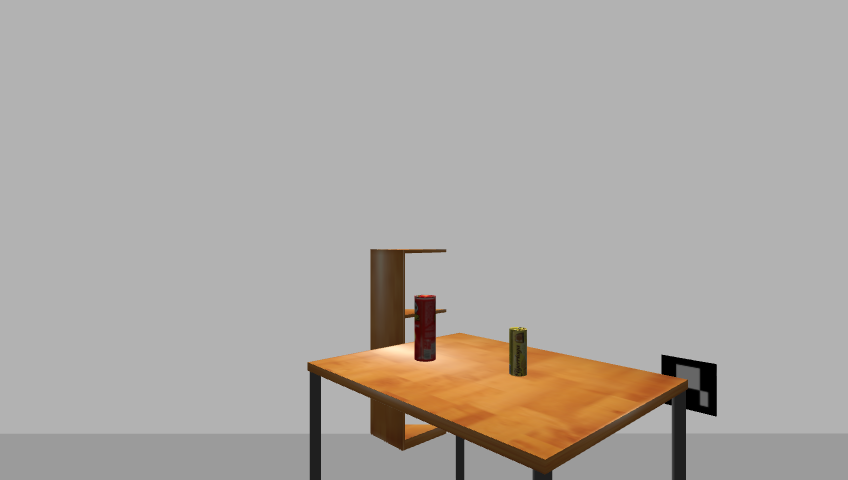aruco marker: (657, 353, 722, 419)
biscuits pack: (508, 327, 529, 378)
bookshelf: (365, 245, 450, 455)
dinner table: (299, 333, 697, 480)
pringles can: (412, 295, 438, 364)
